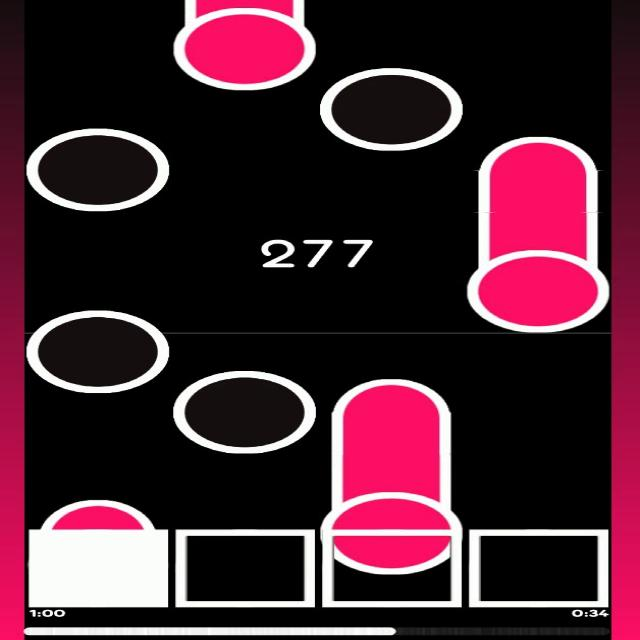end_hold: (326, 367, 459, 421), (482, 126, 598, 178), (41, 494, 155, 536)
note: (23, 124, 173, 213), (174, 368, 318, 457), (319, 66, 461, 150), (26, 308, 166, 391)
start_hold: (321, 476, 461, 578), (464, 237, 612, 333), (173, 0, 316, 89)
